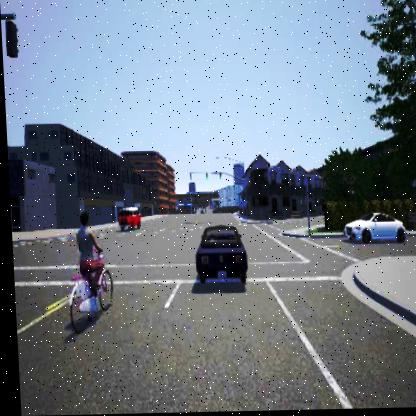bike: (60, 209, 112, 332)
vehicle: (191, 225, 244, 284), (339, 213, 403, 245), (115, 207, 138, 230)
